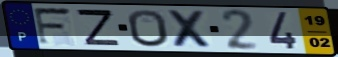2: (220, 7, 261, 53)
4: (266, 11, 299, 51)
F: (31, 6, 75, 47)
O: (125, 8, 171, 48)
X: (164, 9, 217, 50)
Z: (74, 8, 123, 47)
